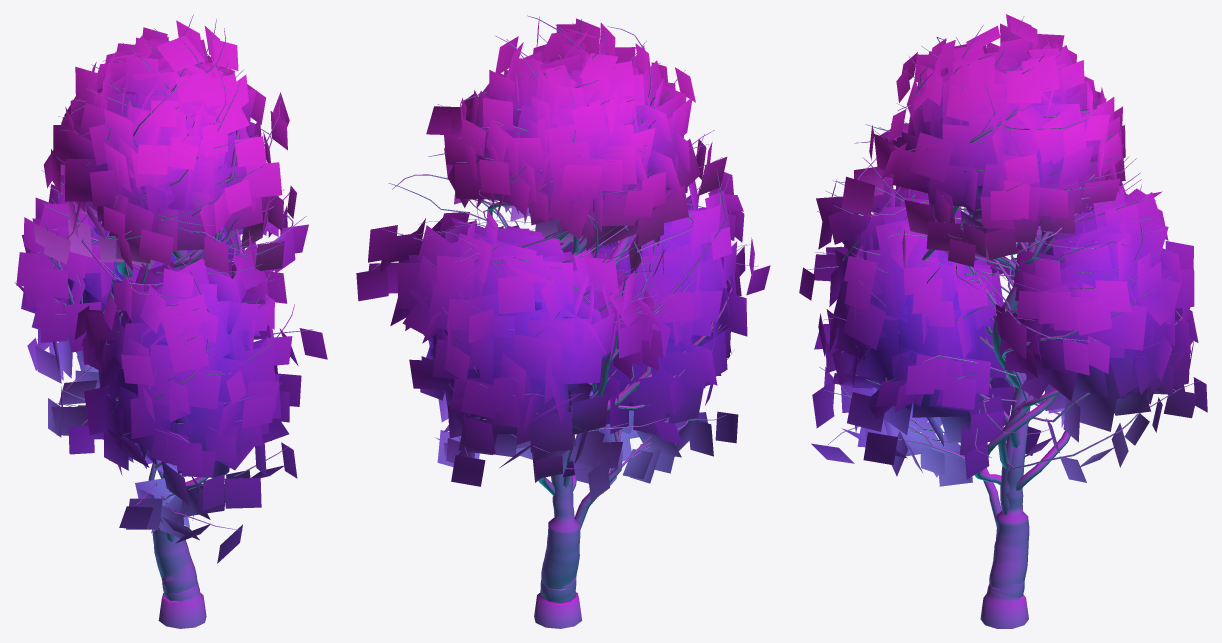
Rendered from tree_birch_s9_a30_x10_wild.fbx.
3 views of the same model, side by side, from view 1: azimuth 30°, elevation 25°; view 2: azimuth 150°, elevation 25°; view 3: azimuth 270°, elevation 25° (orthographic).
Visible parts, largest first — view 1: tree_birch_s9_a30_x10_wild_leaves, tree_birch_s9_a30_x10_wild_branches; view 2: tree_birch_s9_a30_x10_wild_leaves, tree_birch_s9_a30_x10_wild_branches; view 3: tree_birch_s9_a30_x10_wild_leaves, tree_birch_s9_a30_x10_wild_branches.
Part boxes in pixels (x1,y1,x2,y2): tree_birch_s9_a30_x10_wild_leaves: [14, 20, 327, 563]; tree_birch_s9_a30_x10_wild_branches: [35, 14, 313, 628]; tree_birch_s9_a30_x10_wild_leaves: [356, 16, 770, 501]; tree_birch_s9_a30_x10_wild_branches: [373, 15, 758, 628]; tree_birch_s9_a30_x10_wild_leaves: [799, 14, 1207, 486]; tree_birch_s9_a30_x10_wild_branches: [807, 16, 1200, 628].
Size of the model in its own units: 3.42 by 6.83 by 4.3.
